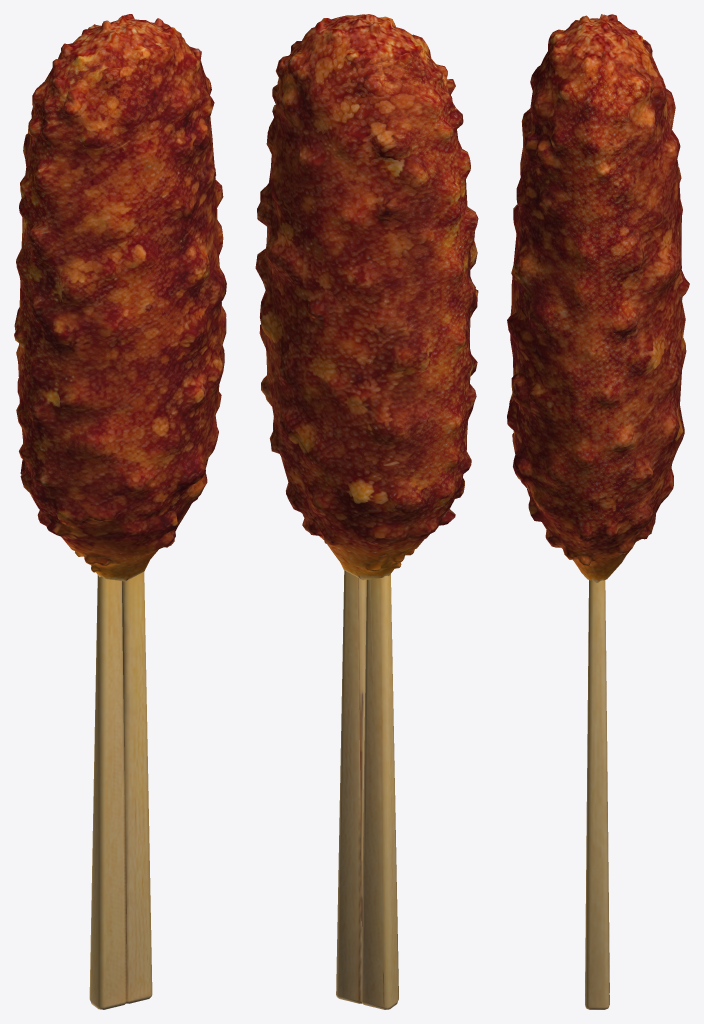
File: sabae-dog-low.fbx
3 renders of one model, left to right at view 1: azimuth 30°, elevation 25°; view 2: azimuth 150°, elevation 25°; view 3: azimuth 270°, elevation 25°, orthographic.
Parts seen in each view (by area): view 1: tripo_node_dab527c2-19c0-4982-87e0-b1f53cb9c87a; view 2: tripo_node_dab527c2-19c0-4982-87e0-b1f53cb9c87a; view 3: tripo_node_dab527c2-19c0-4982-87e0-b1f53cb9c87a.
Part boxes in pixels (x1,y1,x2,y2): tripo_node_dab527c2-19c0-4982-87e0-b1f53cb9c87a: (14,14,226,1009); tripo_node_dab527c2-19c0-4982-87e0-b1f53cb9c87a: (255,14,478,1009); tripo_node_dab527c2-19c0-4982-87e0-b1f53cb9c87a: (507,14,689,1009).
Size of the model in its own units: 0.2153 by 0.9995 by 0.1694.
1 material, 1 textured.
